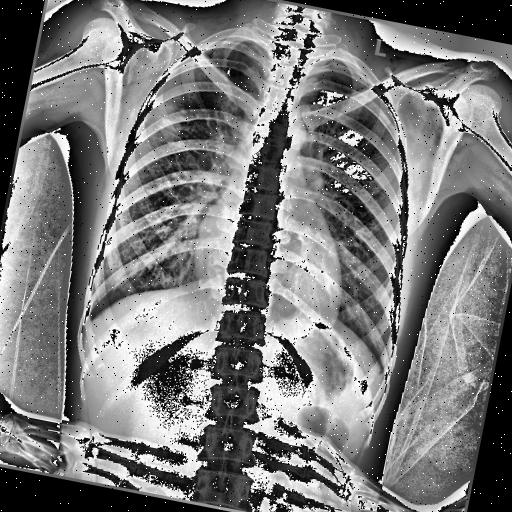11- Pleural thickening: (213, 28, 262, 50)
13- Pulmonary fibrosis: (142, 96, 230, 162), (143, 100, 198, 142), (145, 100, 190, 138)
7- Lung Opacity: (143, 100, 198, 142)
9- Other lesion: (145, 100, 190, 138)
